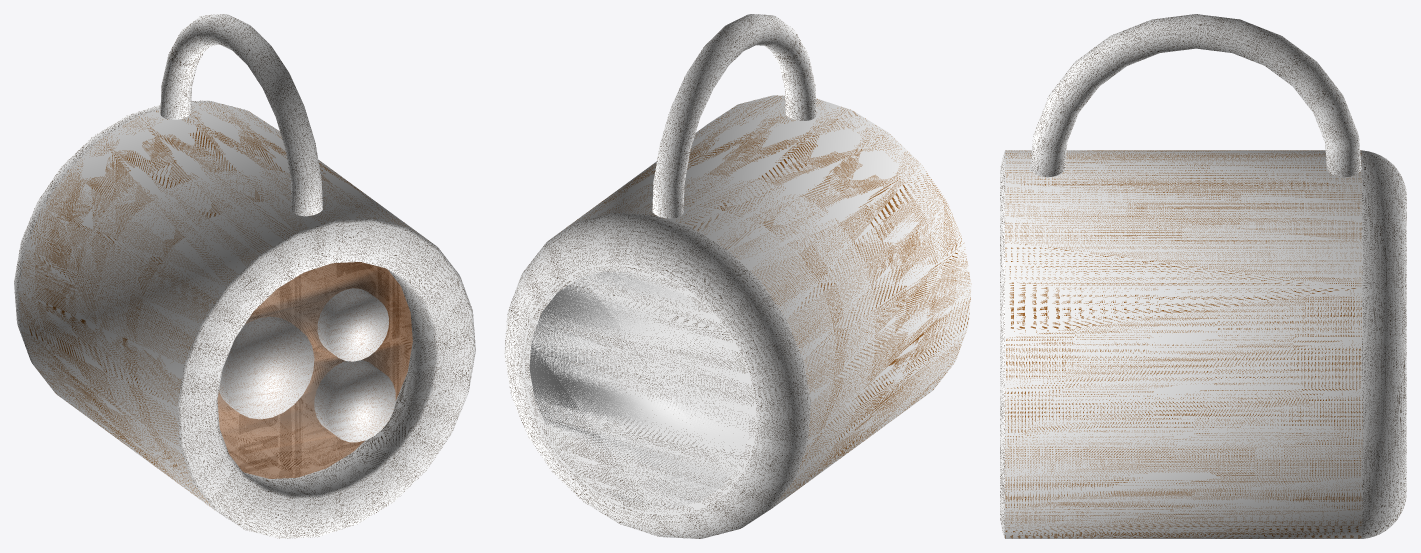
The model's file is model_align.obj.
3 views of the same model, side by side, from view 1: azimuth 30°, elevation 25°; view 2: azimuth 150°, elevation 25°; view 3: azimuth 270°, elevation 25° (orthographic). The views are drawn at different scales.
Visible parts, largest first — view 1: mesh1_mesh1-geometry, mesh2_mesh2-geometry; view 2: mesh1_mesh1-geometry, mesh2_mesh2-geometry; view 3: mesh1_mesh1-geometry, mesh2_mesh2-geometry.
Boxes of the visible parts, <box> form: mesh1_mesh1-geometry: <box>14,100,475,538</box>; mesh2_mesh2-geometry: <box>160,14,322,216</box>; mesh1_mesh1-geometry: <box>504,95,971,538</box>; mesh2_mesh2-geometry: <box>652,14,816,218</box>; mesh1_mesh1-geometry: <box>1000,150,1406,538</box>; mesh2_mesh2-geometry: <box>1030,14,1361,177</box>.
Bounding box in the file's own units: 0.0787 × 0.113 × 0.0825.
